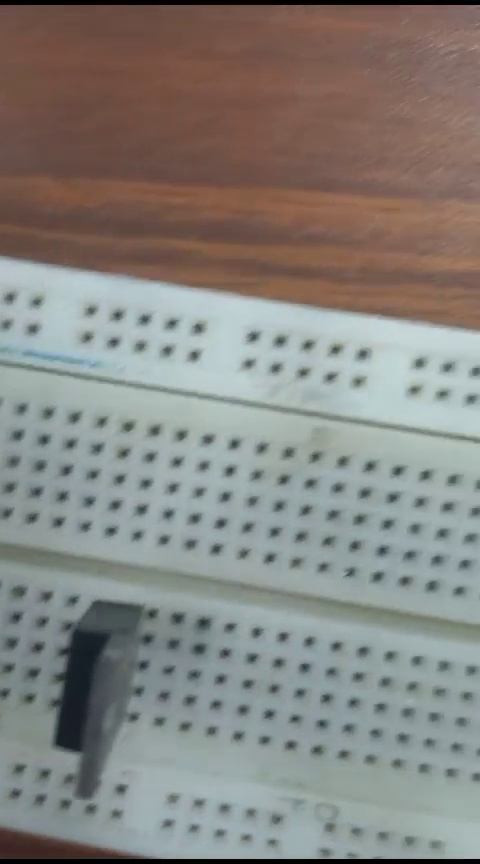voltage regulator: (38, 592, 142, 800)
